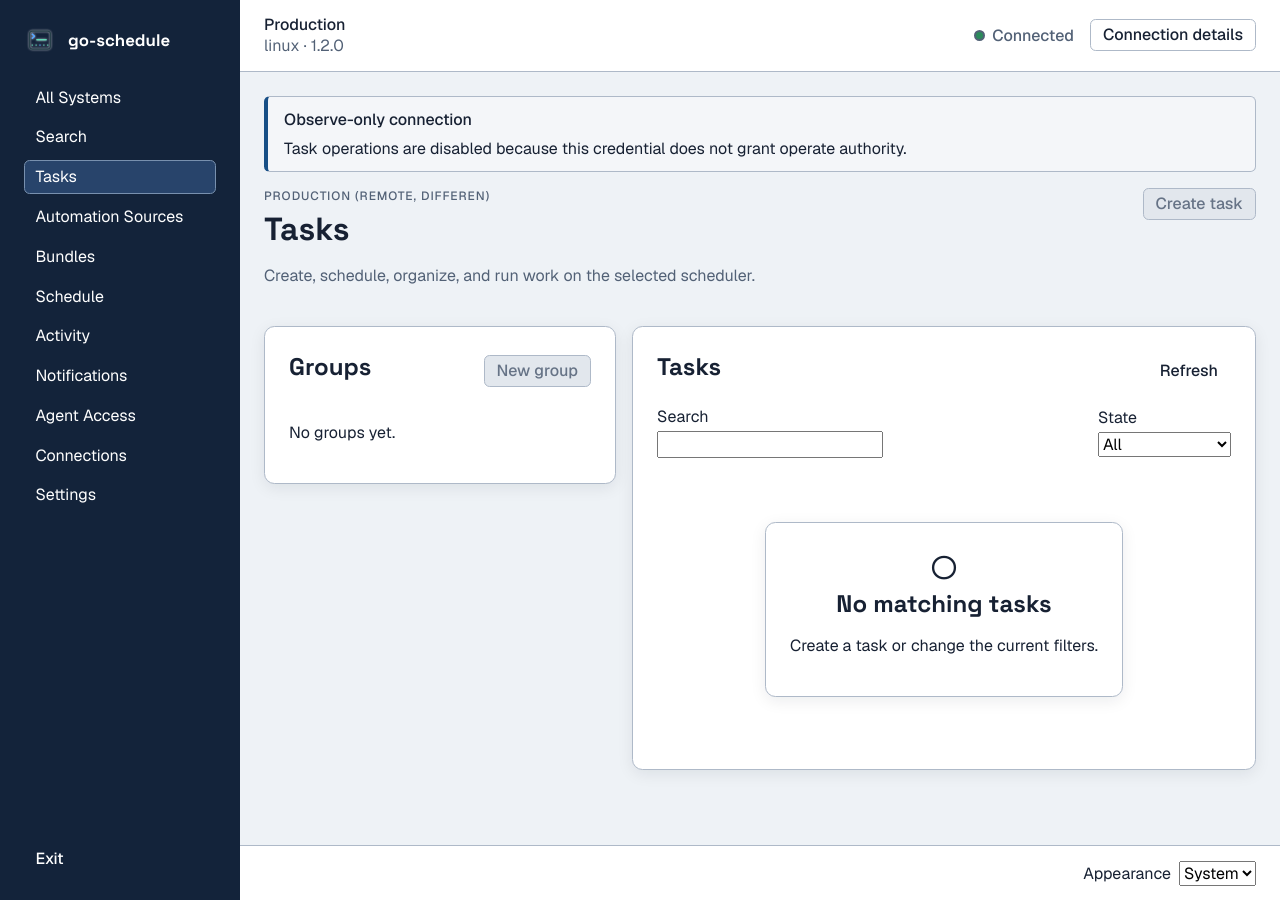
production shell › leaves search open when the selected registration resolves to a different daemon identity
This screenshot has width=1280, height=900.
Step 1. Click the button "Search" → (120, 137), box [24, 120, 216, 154]
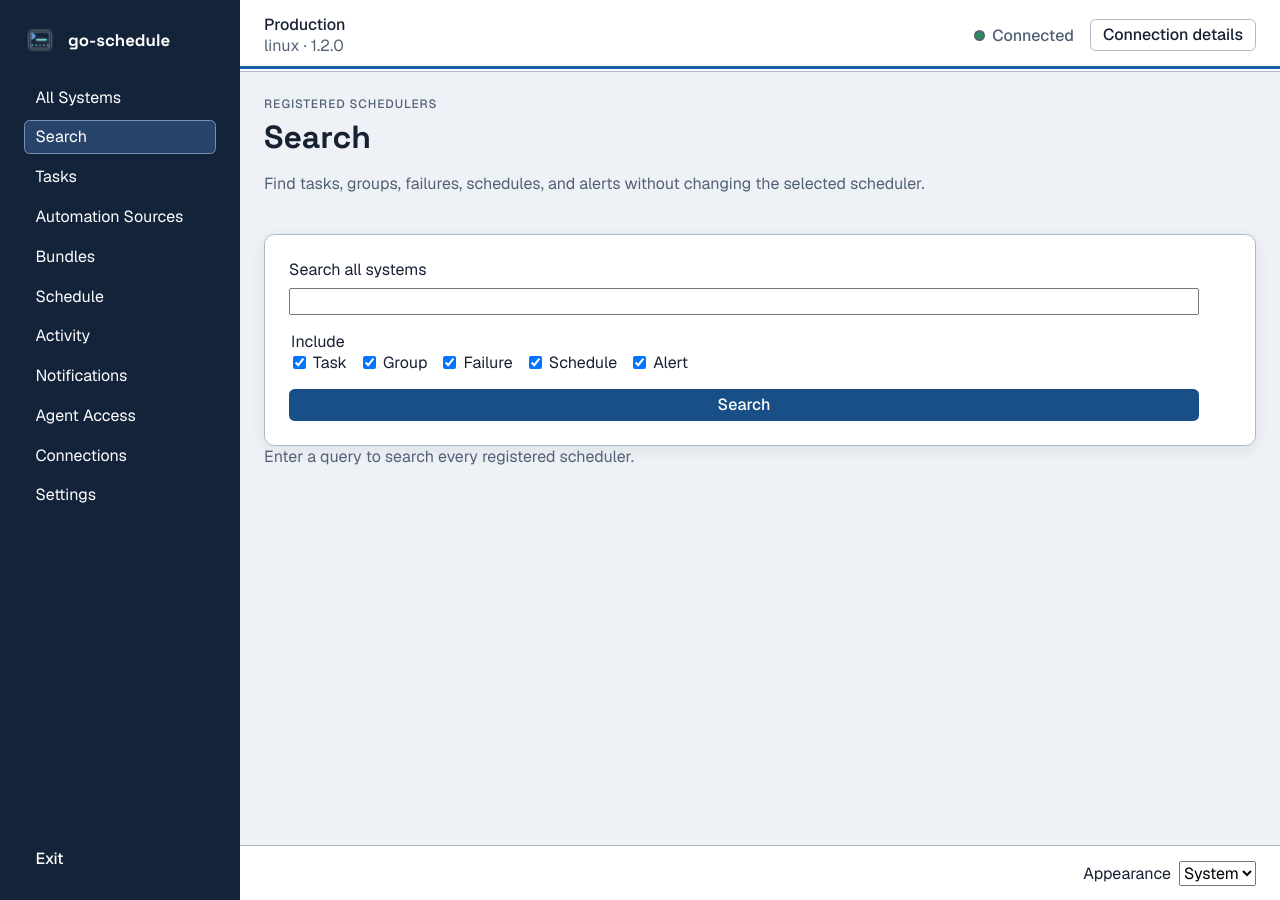
Step 2. Type "archive" into the field labelled "Search all systems" → (744, 302), box [289, 288, 1199, 315]
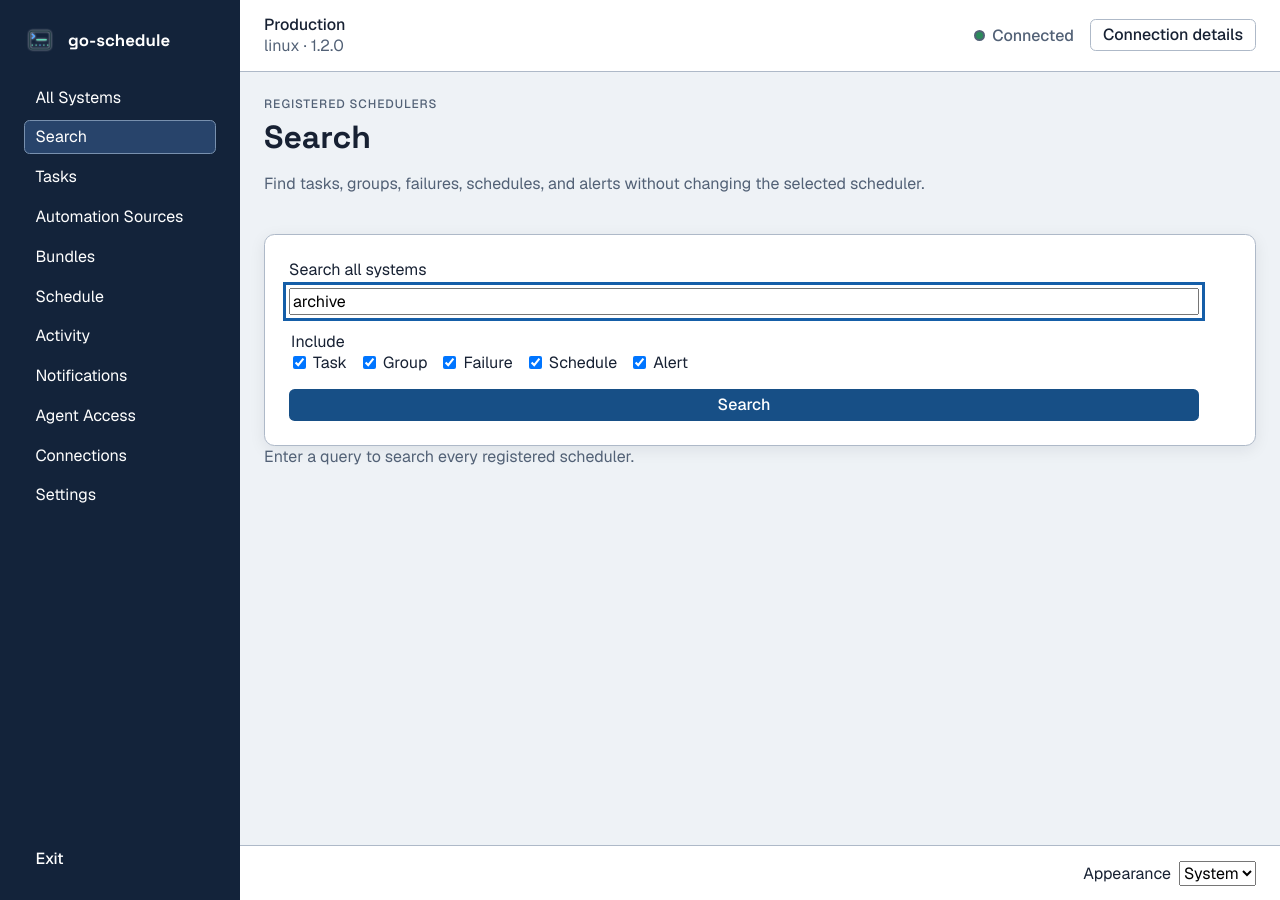
Step 3. Click the button "Search" below "Include" → (744, 405), box [289, 389, 1199, 421]
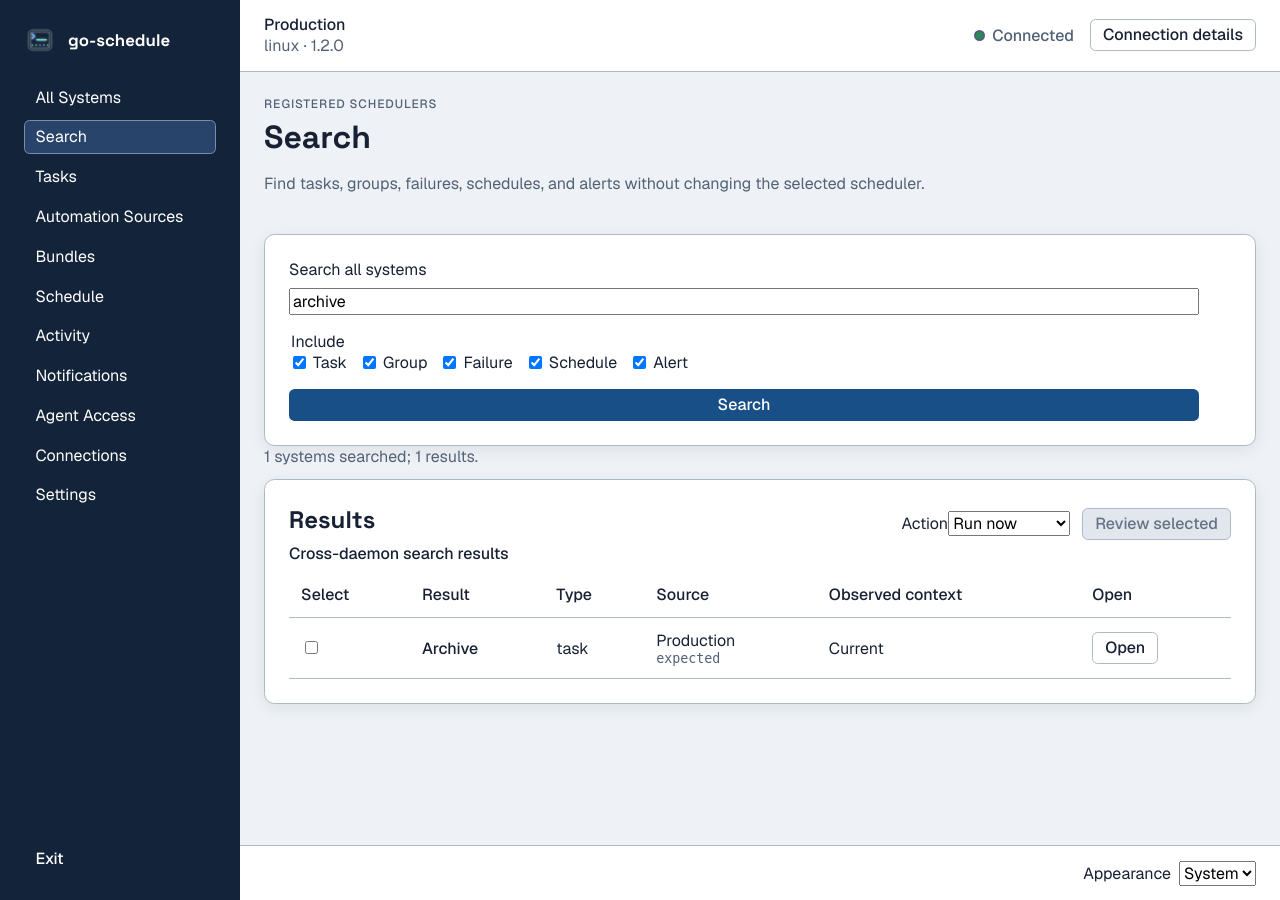
Step 4. Click the button "Open" → (1125, 648), box [1092, 632, 1158, 664]
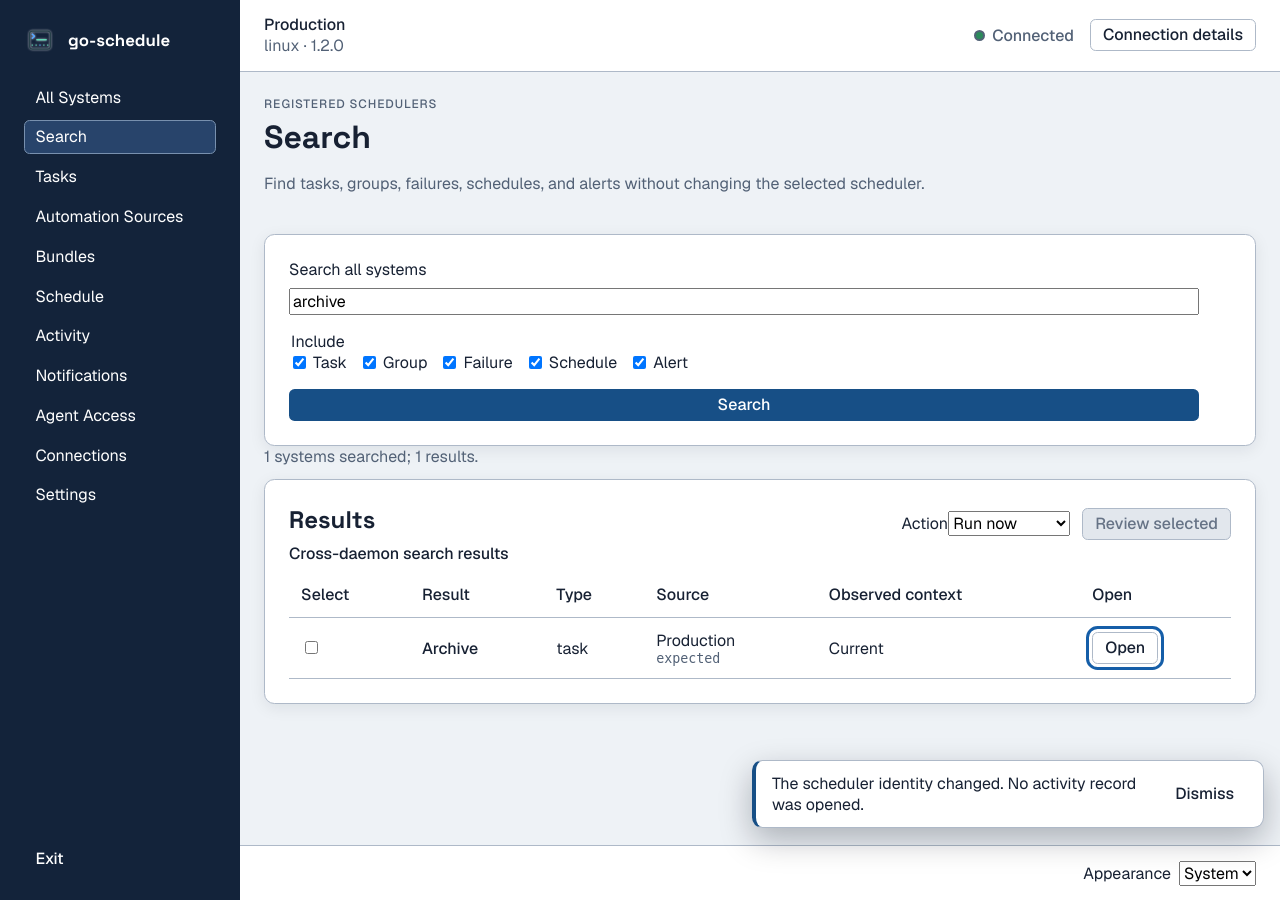
Now the heading "Search" is shown, box [264, 117, 371, 157]
Now the text "The scheduler identity changed. No activity record was opened." is shown, box [772, 773, 1150, 815]
